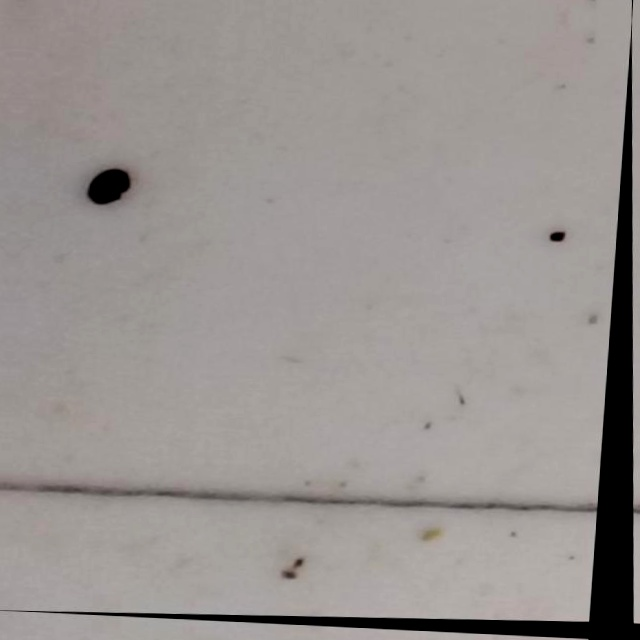varroa: (84, 167, 136, 210)
